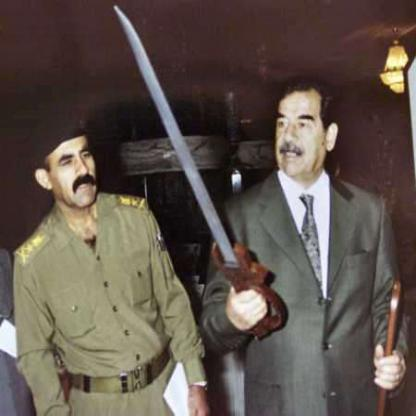face: (271, 79, 331, 180), (46, 116, 99, 212)
